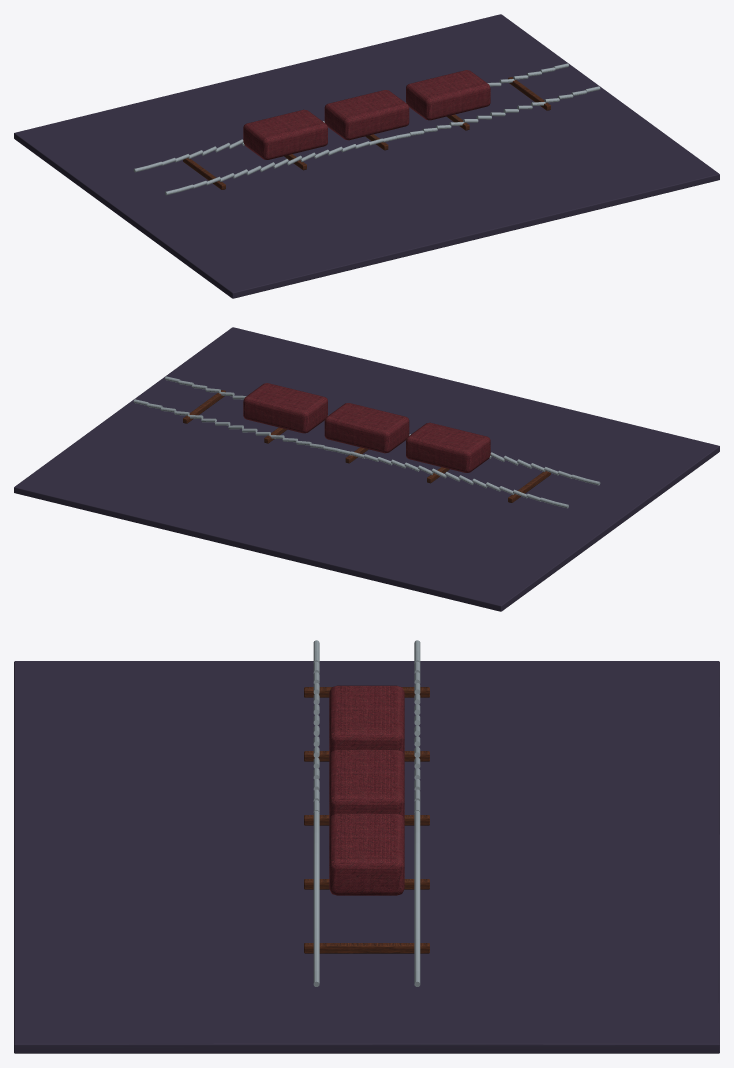
Rendered from finish_coaster_platform.glb.
3 views of the same model, one above another, from view 1: azimuth 30°, elevation 25°; view 2: azimuth 150°, elevation 25°; view 3: azimuth 270°, elevation 25° (orthographic). The views are drawn at different scales.
Visible parts, largest first — view 1: exterior_coaster_car; view 2: exterior_coaster_car; view 3: exterior_coaster_car.
Boxes of the visible parts, left/top/right/bottom form: exterior_coaster_car: left=14, top=14, right=719, bottom=298; exterior_coaster_car: left=14, top=327, right=719, bottom=611; exterior_coaster_car: left=14, top=640, right=719, bottom=1053.
Bounding box in the file's own units: 18 × 1.97 × 14.
Materials: 4 (2 with a texture image).
